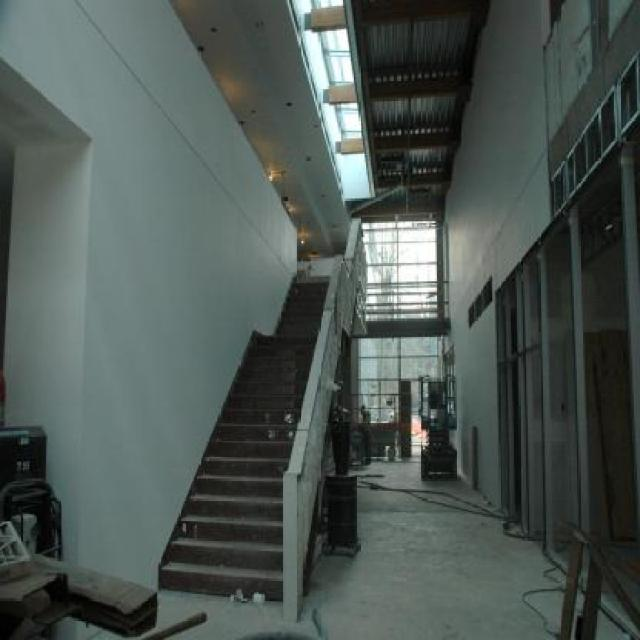stair: (155, 269, 334, 600)
